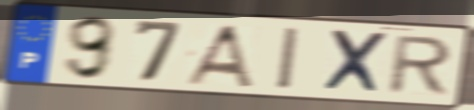7: (131, 18, 189, 85)
9: (60, 14, 120, 82)
A: (180, 22, 257, 90)
I: (275, 25, 302, 93)
R: (383, 34, 457, 97)
X: (320, 28, 391, 97)
